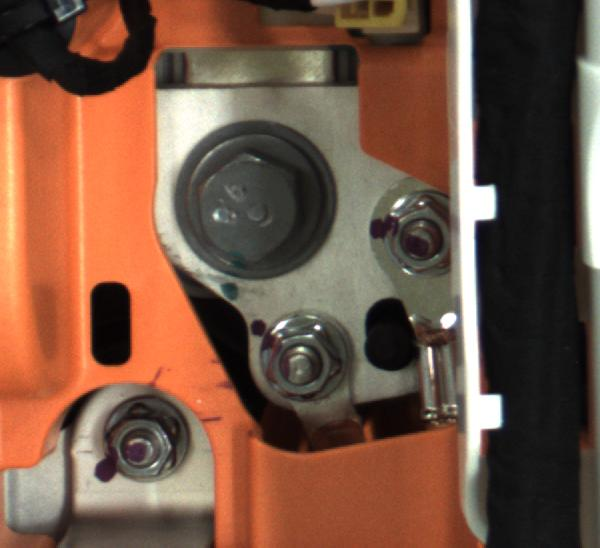nut_b: (178, 129, 339, 278)
screw_s: (253, 320, 356, 401), (102, 407, 180, 487), (382, 201, 449, 270)
